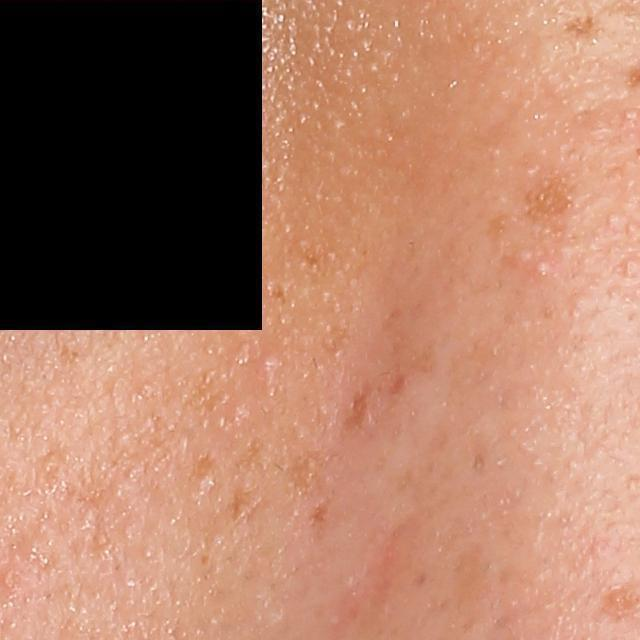comedo: (532, 261, 563, 278), (258, 353, 277, 376)
melasma: (186, 408, 342, 542), (331, 304, 441, 449), (129, 368, 229, 448), (450, 546, 499, 614), (524, 168, 579, 224), (480, 208, 511, 252)
